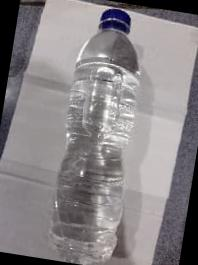Plastik: (48, 8, 138, 264)
